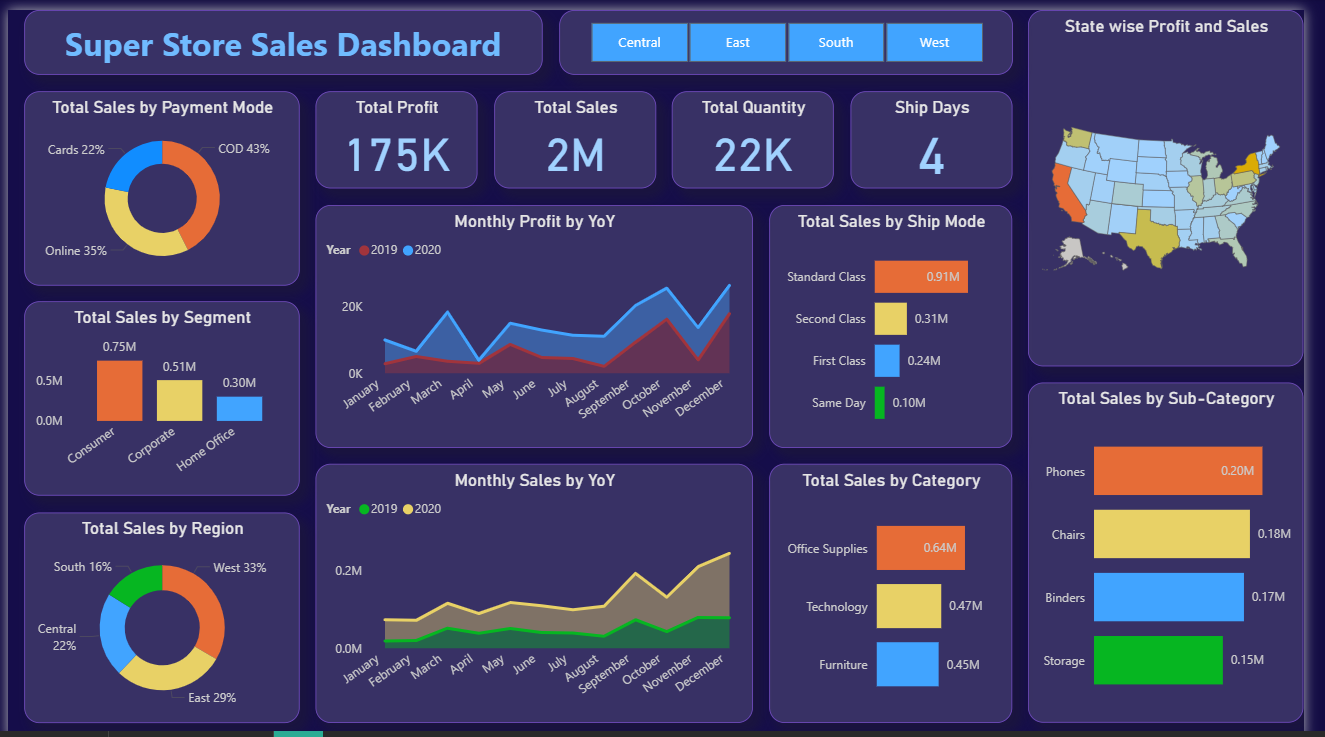

What the dashboard file says about the page in this screenshot:
{"tool":"powerbi","page":{"name":"Sales Dashboard","canvas":[1280,720],"ordinal":0},"visuals":[{"type":"clusteredBarChart","fields":{"Y":["Sum(SuperStore_Sales_Dataset.Sales)"],"Category":["SuperStore_Sales_Dataset.Sub-Category"]},"box":[1008,368,272,336],"z":0},{"type":"clusteredBarChart","fields":{"Y":["Sum(SuperStore_Sales_Dataset.Sales)"],"Category":["SuperStore_Sales_Dataset.Ship Mode"]},"box":[752,192,240,240],"z":1000},{"type":"stackedAreaChart","title":" Monthly Sales by YoY","fields":{"Y":["Sum(SuperStore_Sales_Dataset.Sales)"],"Series":["SuperStore_Sales_Dataset.Order Date.Variation.Date Hierarchy.Year"],"Category":["SuperStore_Sales_Dataset.Order Date.Variation.Date Hierarchy.Month","SuperStore_Sales_Dataset.Order Date.Variation.Date Hierarchy.Day"]},"box":[304,448,432,256],"z":2000},{"type":"stackedAreaChart","title":" Monthly Profit by YoY","fields":{"Series":["SuperStore_Sales_Dataset.Order Date.Variation.Date Hierarchy.Year"],"Category":["SuperStore_Sales_Dataset.Order Date.Variation.Date Hierarchy.Month","SuperStore_Sales_Dataset.Order Date.Variation.Date Hierarchy.Day"],"Y":["Sum(SuperStore_Sales_Dataset.Profit)"]},"box":[304,192,432,240],"z":3000},{"type":"shapeMap","title":"State wise Profit and Sales","fields":{"Category":["SuperStore_Sales_Dataset.State"],"Value":["Sum(SuperStore_Sales_Dataset.Sales)"]},"box":[1008,0,272,352],"z":4000},{"type":"columnChart","fields":{"Category":["SuperStore_Sales_Dataset.Segment"],"Y":["Sum(SuperStore_Sales_Dataset.Sales)"]},"box":[16,288,272,192],"z":5000},{"type":"donutChart","fields":{"Category":["SuperStore_Sales_Dataset.Payment Mode"],"Y":["Sum(SuperStore_Sales_Dataset.Sales)"]},"box":[16,80,272,192],"z":6000},{"type":"slicer","fields":{"Values":["SuperStore_Sales_Dataset.Region"]},"box":[544,0,448,64],"z":7000},{"type":"textbox","box":[16,0,512,64],"z":8000},{"type":"card","title":"Total Sales","fields":{"Values":["Sum(SuperStore_Sales_Dataset.Sales)"]},"box":[480,80,160,96],"z":9000},{"type":"card","title":"Total Quantity","fields":{"Values":["Sum(SuperStore_Sales_Dataset.Quantity)"]},"box":[656,80,160,96],"z":10000},{"type":"card","title":"Ship Days","fields":{"Values":["Avg(SuperStore_Sales_Dataset.Avg Delivery Days)"]},"box":[832,80,160,96],"z":11000},{"type":"card","title":"Total Profit","fields":{"Values":["Sum(SuperStore_Sales_Dataset.Profit)"]},"box":[304,80,160,96],"z":12000},{"type":"donutChart","fields":{"Y":["Sum(SuperStore_Sales_Dataset.Sales)"],"Category":["SuperStore_Sales_Dataset.Region"]},"box":[16,496,272,208],"z":13000},{"type":"clusteredBarChart","fields":{"Y":["Sum(SuperStore_Sales_Dataset.Sales)"],"Category":["SuperStore_Sales_Dataset.Category"]},"box":[752,448,240,256],"z":14000}]}

Visuals, with their boxes in screenshot pixels (x1, y1, x2, y2), scaled from the page's 1280x720 canvas onto the 1325x737 screenshot:
clusteredBarChart - Sum(SuperStore_Sales_Dataset.Sales) x SuperStore_Sales_Dataset.Sub-Category: select_region(1043, 377, 1324, 721)
clusteredBarChart - Sum(SuperStore_Sales_Dataset.Sales) x SuperStore_Sales_Dataset.Ship Mode: select_region(778, 197, 1027, 442)
" Monthly Sales by YoY" stackedAreaChart: select_region(315, 459, 762, 721)
" Monthly Profit by YoY" stackedAreaChart: select_region(315, 197, 762, 442)
"State wise Profit and Sales" shapeMap: select_region(1043, 0, 1324, 360)
columnChart - SuperStore_Sales_Dataset.Segment x Sum(SuperStore_Sales_Dataset.Sales): select_region(17, 295, 298, 491)
donutChart - SuperStore_Sales_Dataset.Payment Mode x Sum(SuperStore_Sales_Dataset.Sales): select_region(17, 82, 298, 278)
slicer - SuperStore_Sales_Dataset.Region: select_region(563, 0, 1027, 66)
textbox: select_region(17, 0, 547, 66)
"Total Sales" card: select_region(497, 82, 662, 180)
"Total Quantity" card: select_region(679, 82, 845, 180)
"Ship Days" card: select_region(861, 82, 1027, 180)
"Total Profit" card: select_region(315, 82, 480, 180)
donutChart - Sum(SuperStore_Sales_Dataset.Sales) x SuperStore_Sales_Dataset.Region: select_region(17, 508, 298, 721)
clusteredBarChart - Sum(SuperStore_Sales_Dataset.Sales) x SuperStore_Sales_Dataset.Category: select_region(778, 459, 1027, 721)
